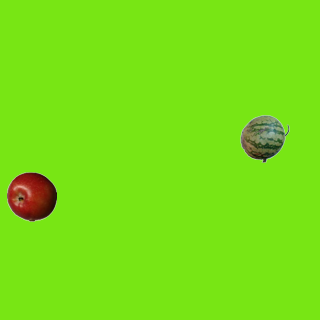Apple Braeburn: (6, 171, 56, 221)
Watermelon: (239, 113, 289, 163)
